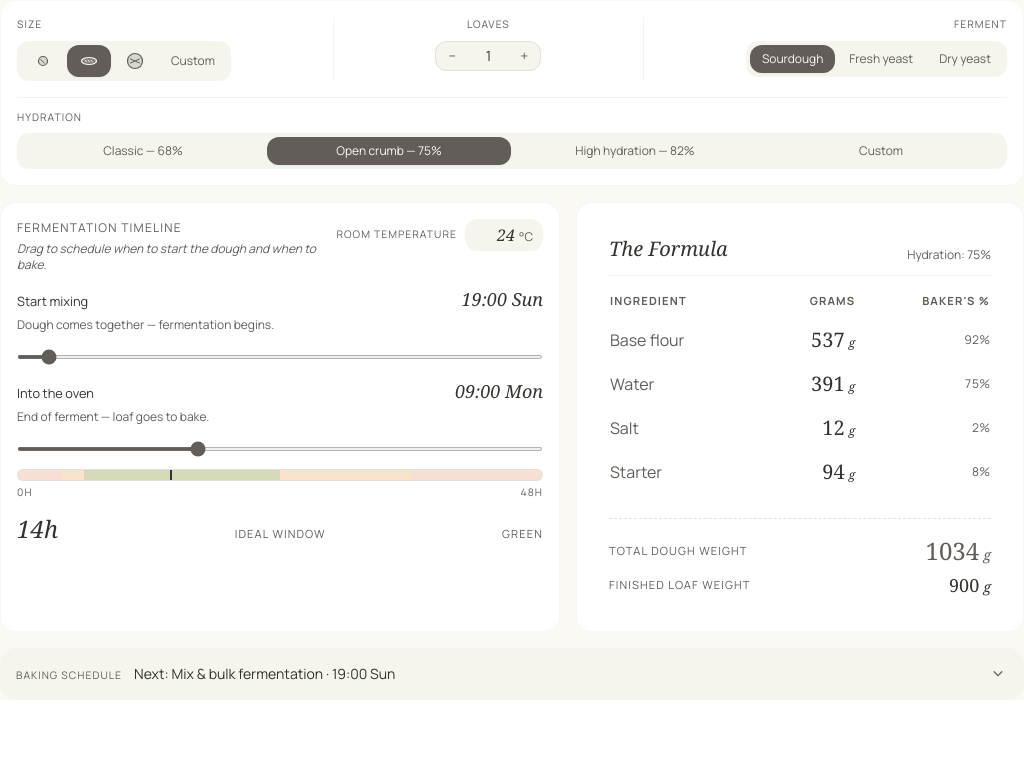
Scenario 02: editorial layout renders ingredient ledger › exposes finished weight by spinbutton label once Custom is chosen
What coordinates should you click on to do the following:
click the radio button labelled "Custom" below "Size"
I would click on:
 (193, 61)
Its box is [159,45,227,77].
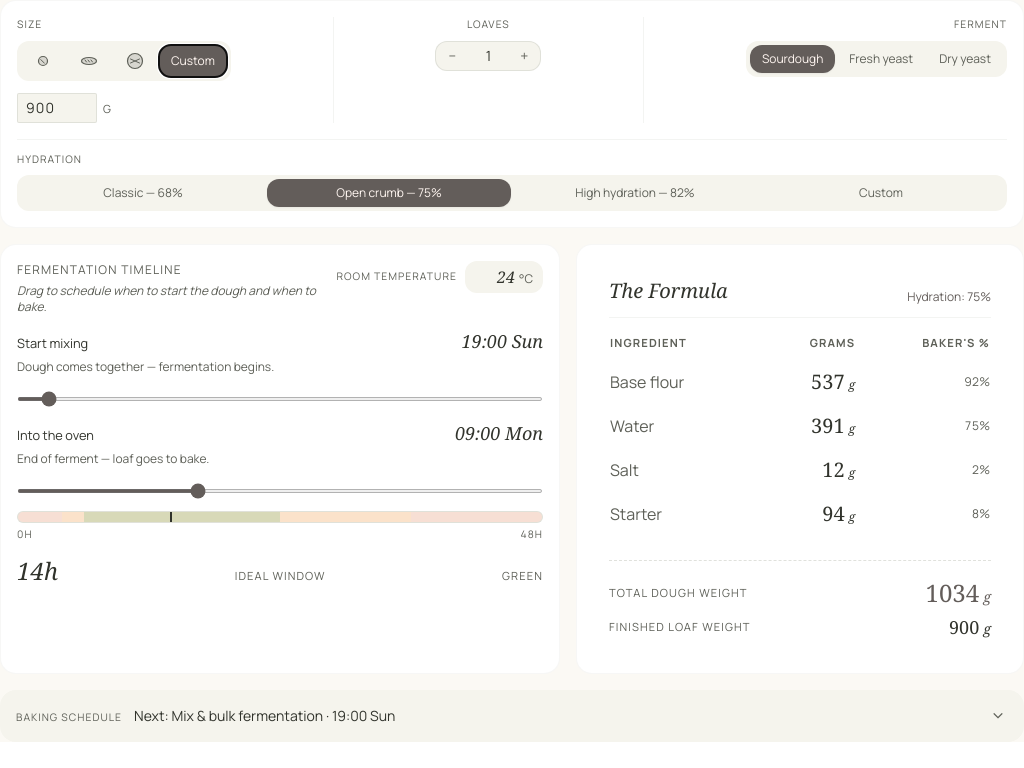
Now the number field named "finished weight" is shown, box [17,93,97,123]
